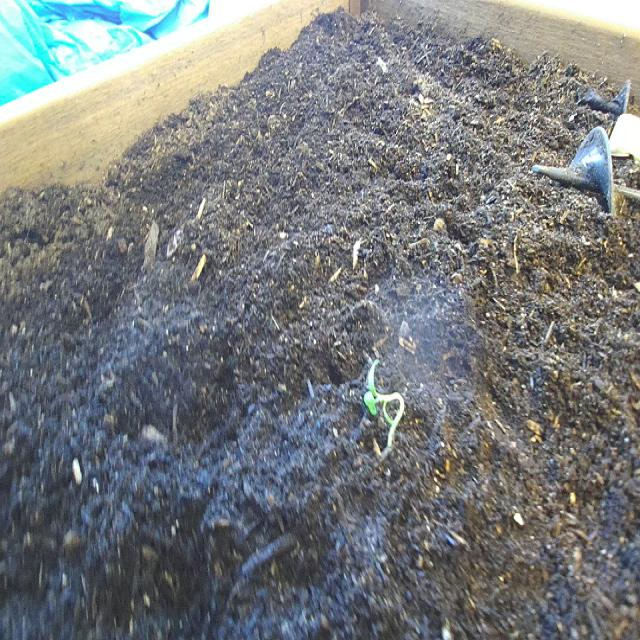Unhealthy: (360, 354, 412, 468)
